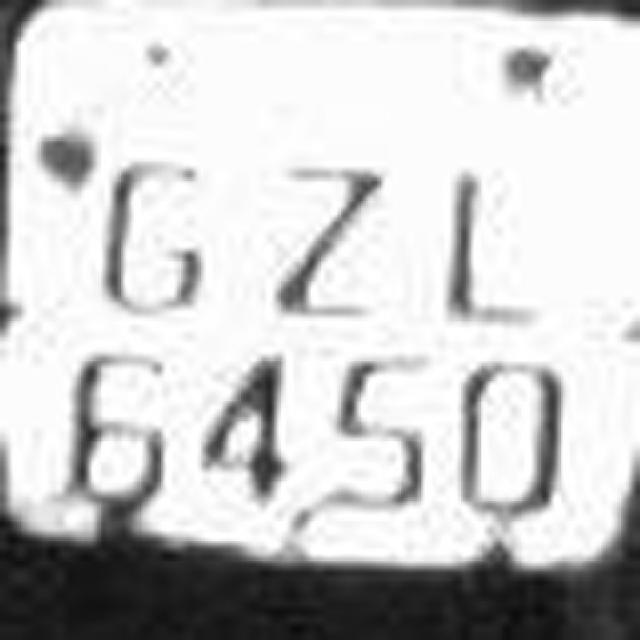0: (415, 332, 600, 548)
4: (164, 328, 324, 512)
5: (280, 332, 465, 520)
6: (36, 312, 192, 512)
O: (64, 136, 236, 329)
Z: (220, 144, 428, 324)
